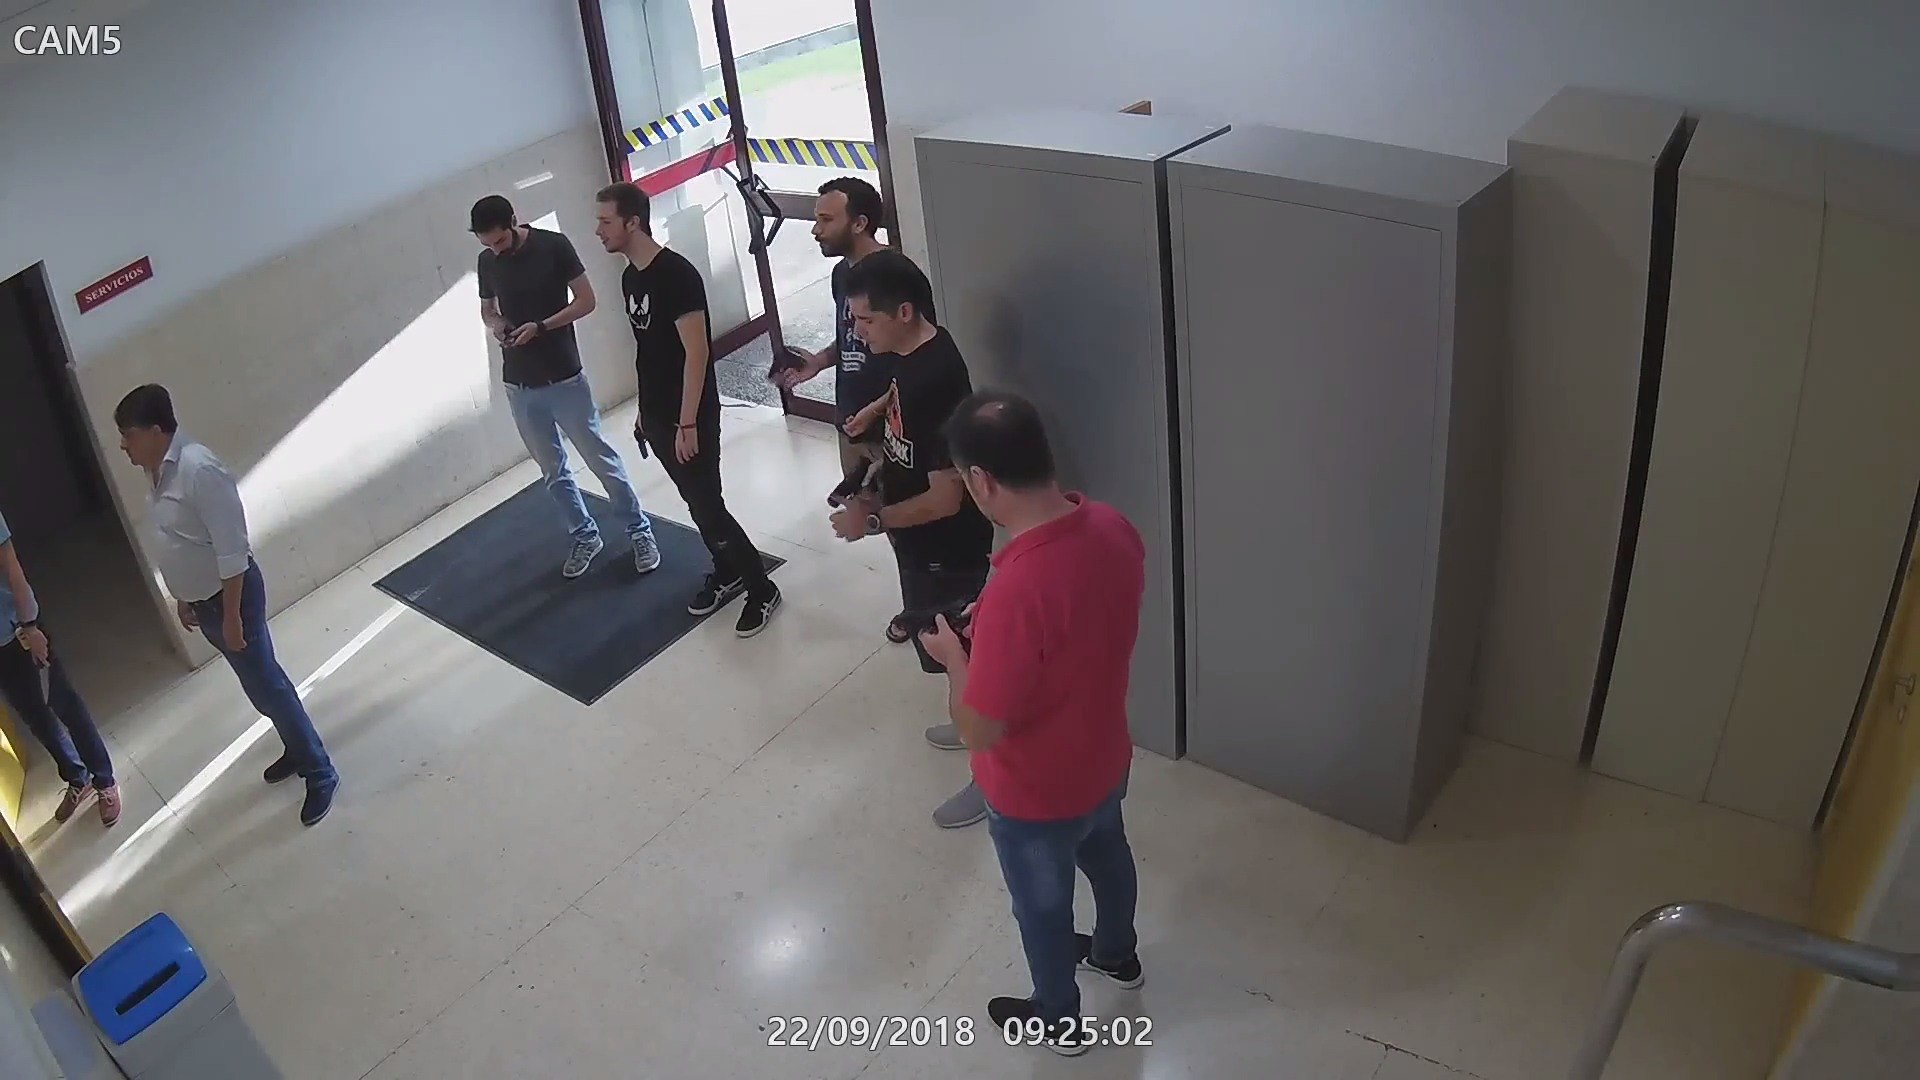knife: (25, 615, 58, 709)
pistol: (895, 592, 978, 665), (825, 450, 884, 520), (765, 342, 815, 388), (485, 318, 531, 351), (626, 413, 651, 460)
